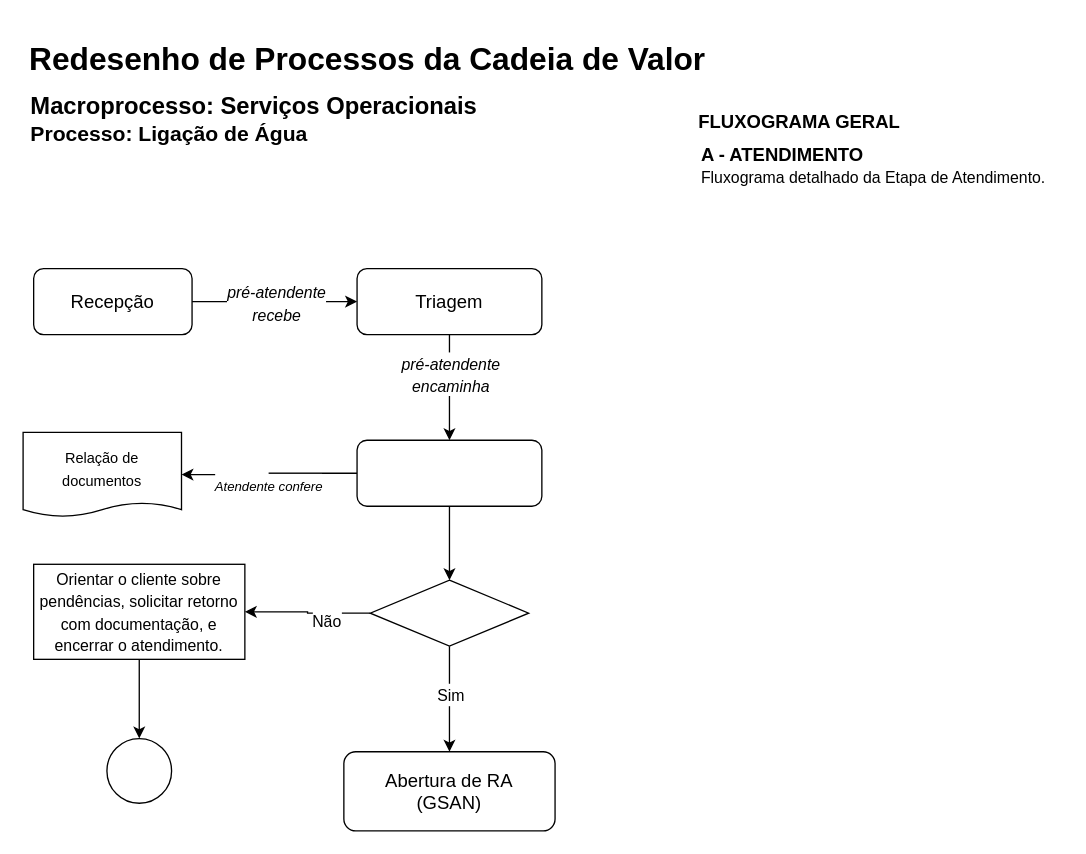
Some shapes in this 1086 by 854 pixel diagram are drawn without their labels. The box of each missing label's shape, as (x1, y1, x2, y2) in pixels:
Checklist da documentação: (356, 439, 542, 506)
Conforme?: (369, 579, 529, 646)
Fim: (106, 737, 172, 803)
